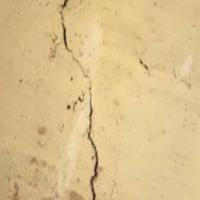crack: (48, 1, 107, 199)
